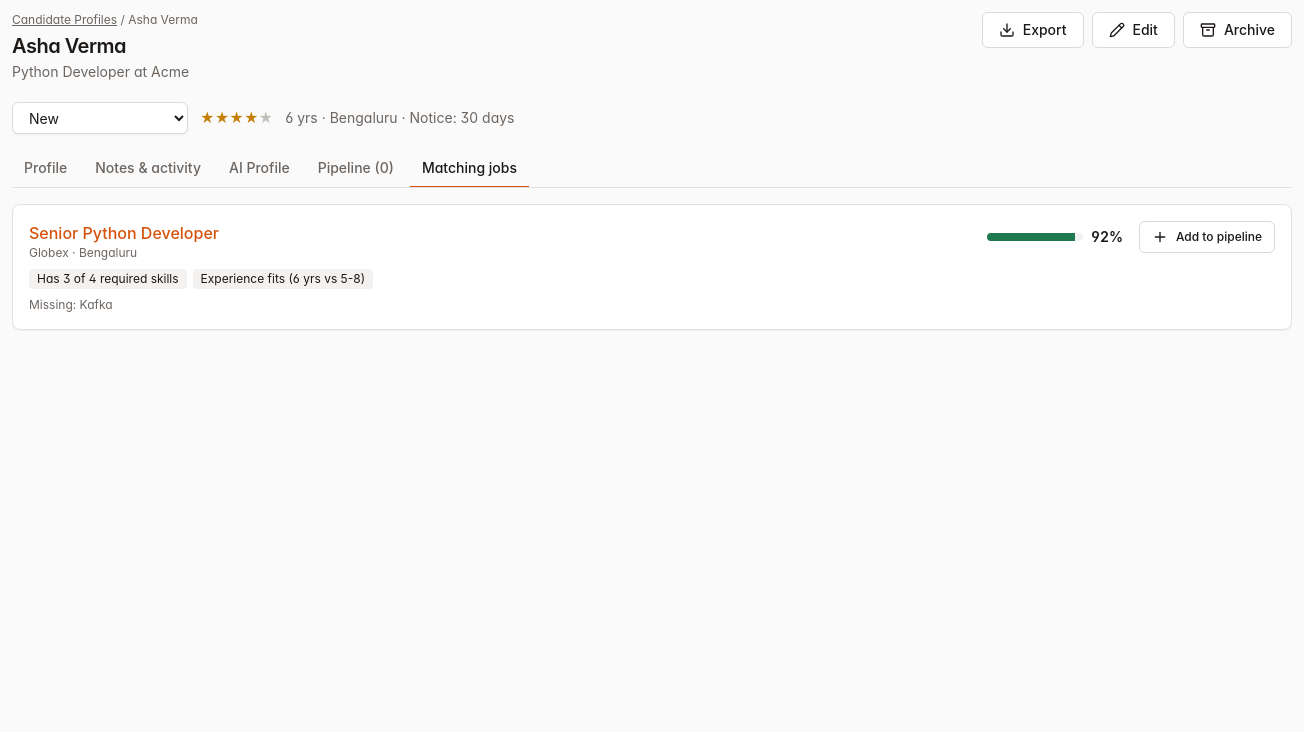
it: candidate detail › shows the profile, changes status, and shows matching jobs with explanations
Expected: the heading "Asha Verma" is shown, [12, 34, 126, 58]
Expected: the link "Senior Python Developer" is shown, [29, 223, 219, 243]
Select "Shortlisted" in the dropdown named "Candidate status" at (100, 118), box [12, 102, 188, 134]
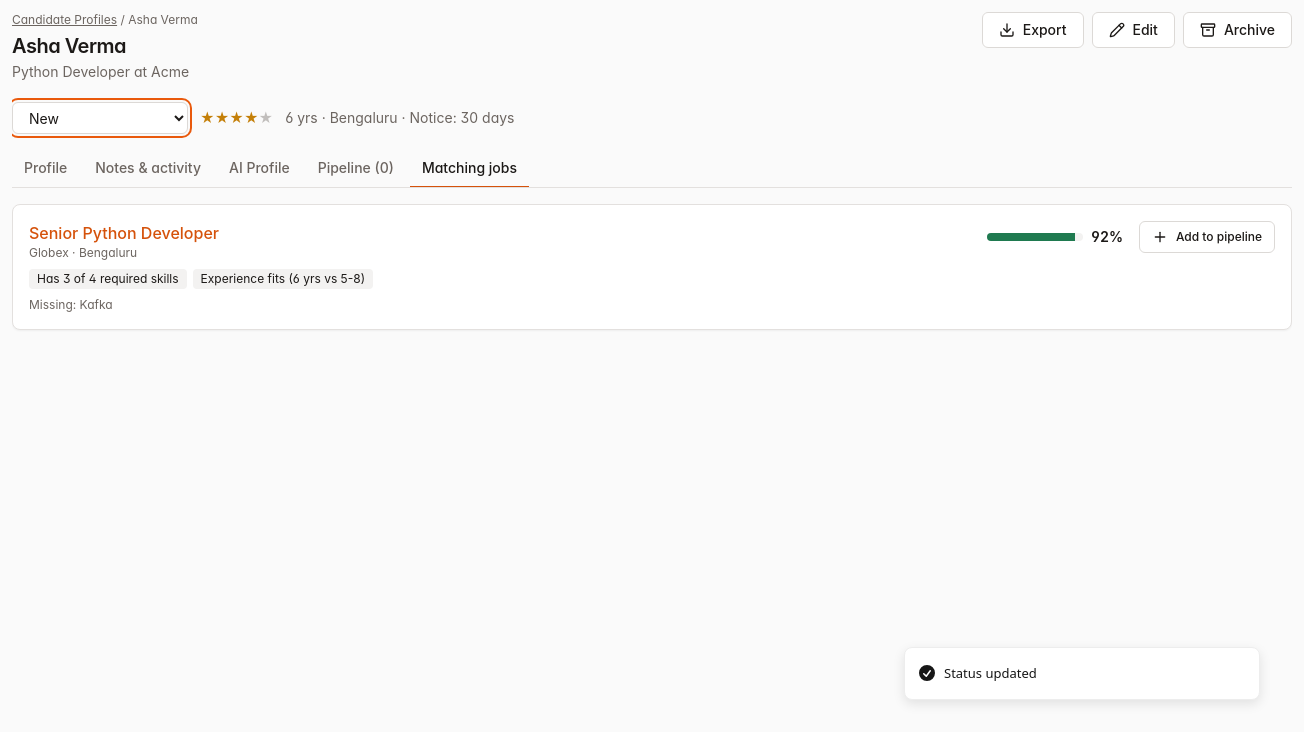
Click the tab "Notes & activity" at (148, 169), box [83, 150, 213, 188]
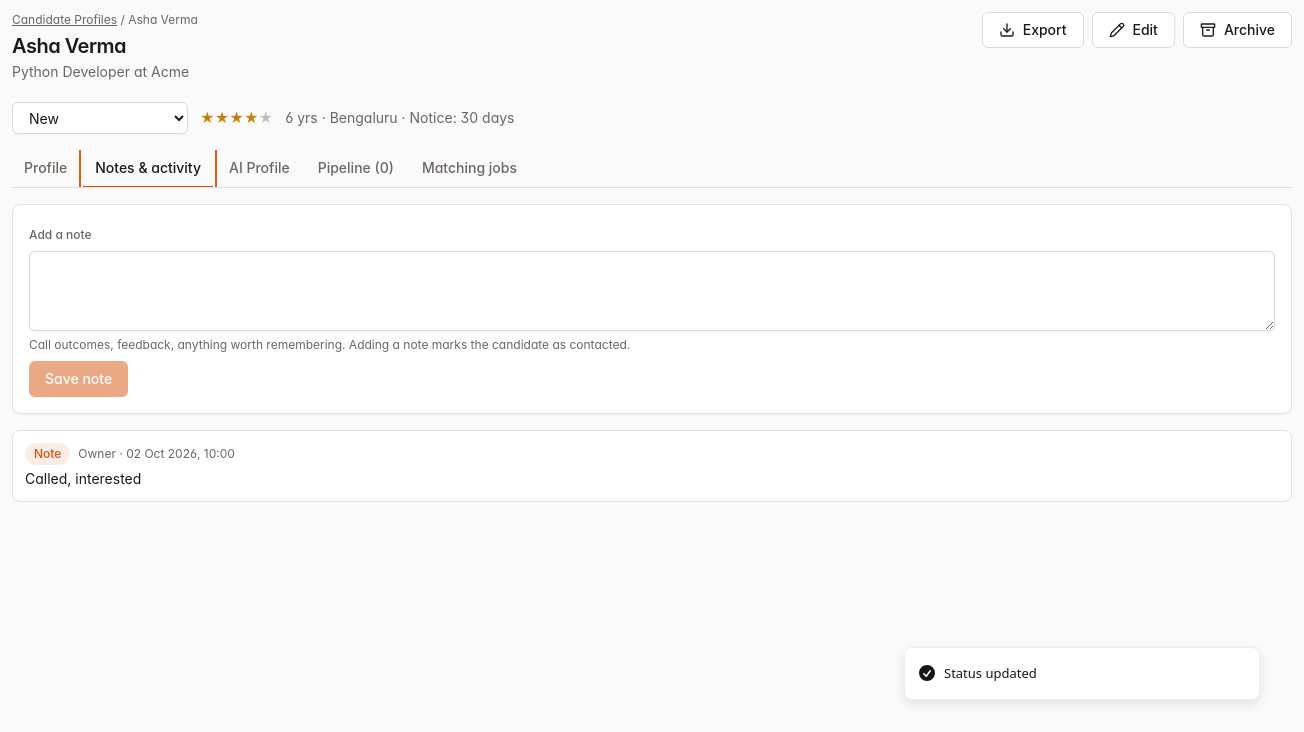
Expected: the text "Called, interested" is shown, [25, 470, 141, 487]
